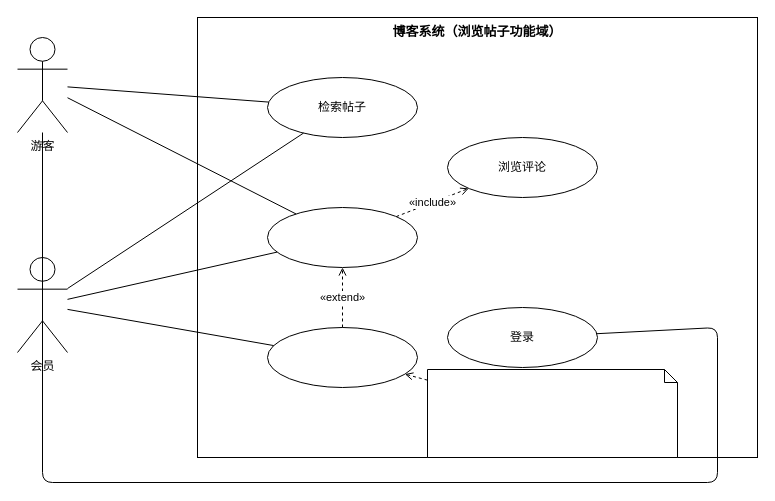
Image size: 775x501. Some labels were removed from this diagram. Here are the shapes that lost their labels. From the top down, the box of each, then its label:
(266, 206, 418, 268): 阅读帖子详细内容
(266, 326, 418, 388): 回复帖子
(426, 368, 678, 458): «extend» UC2 阅读帖子详细内容 扩展点：用户选择回复 触发条件：用户点击“回复” 游客未登录 → 提示先登录并转【登录】用例
